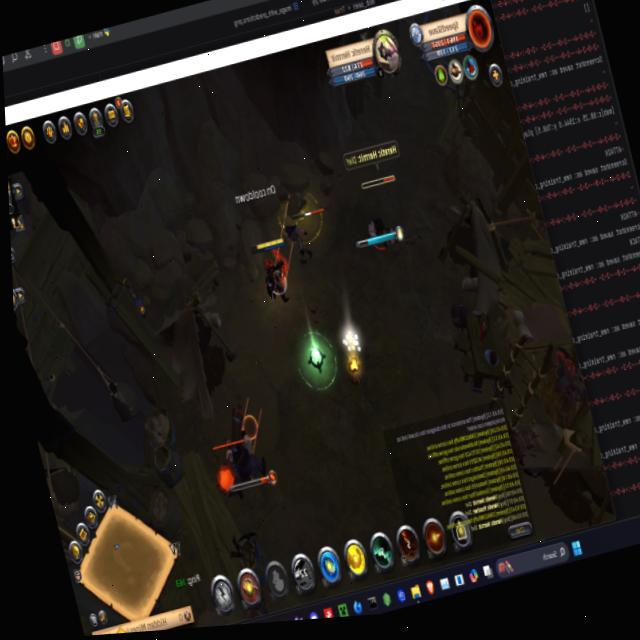ore: (200, 401, 282, 511), (353, 168, 415, 261), (276, 201, 331, 275)
red: (249, 233, 299, 310)
silver: (232, 180, 308, 457)
stone: (340, 325, 364, 356)
